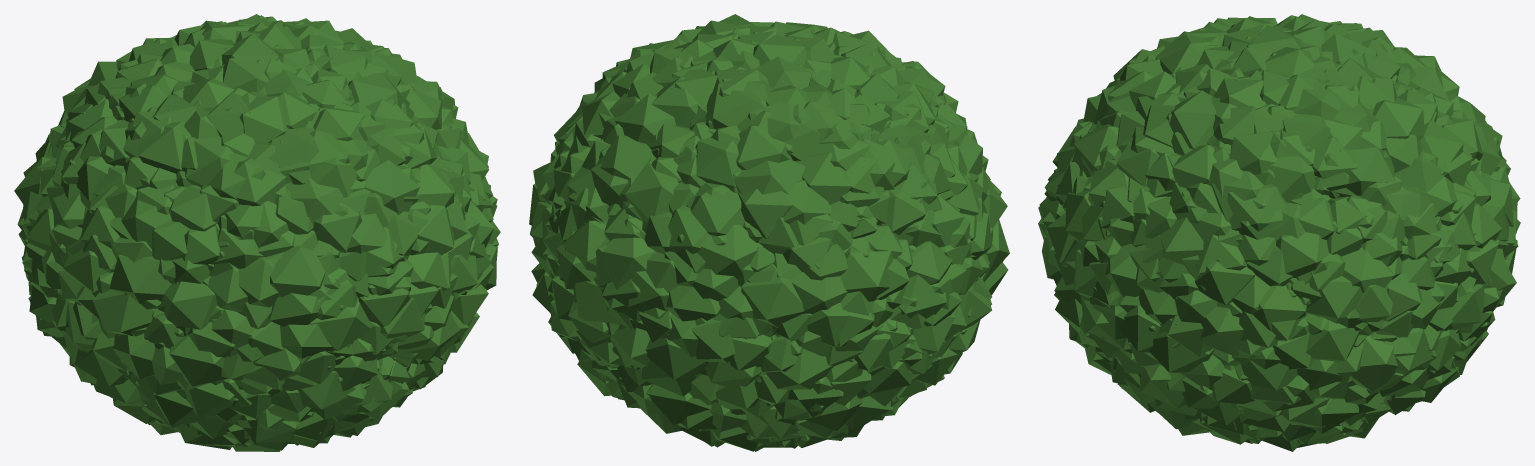
Rendered from Arbusto (1).fbx.
3 views of the same model, side by side, from view 1: azimuth 30°, elevation 25°; view 2: azimuth 150°, elevation 25°; view 3: azimuth 270°, elevation 25° (orthographic).
Visible parts, largest first — view 1: Sphere; view 2: Sphere; view 3: Sphere.
Boxes of the visible parts, box(x1,y1,x2,y2) form: Sphere: box(14, 14, 500, 451); Sphere: box(529, 14, 1009, 451); Sphere: box(1038, 14, 1520, 451).
Bounding box in the file's own units: 284 × 253 × 283.
